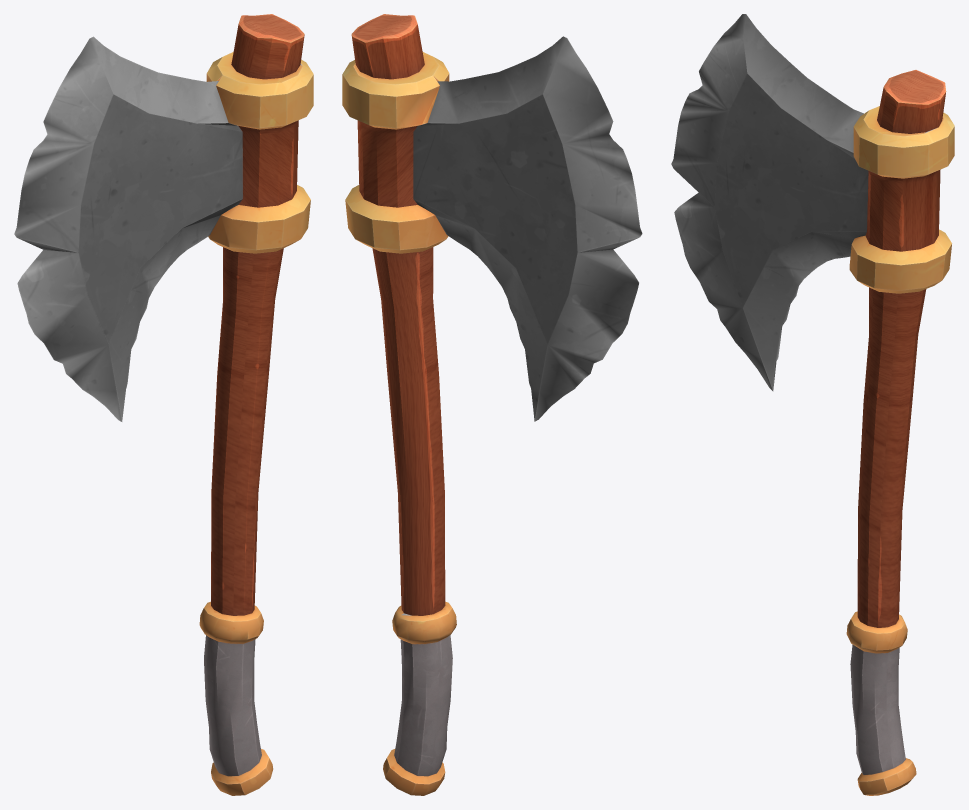
The model's file is Axe.gltf.
3 views of the same model, side by side, from view 1: azimuth 30°, elevation 25°; view 2: azimuth 150°, elevation 25°; view 3: azimuth 330°, elevation 25° (orthographic). The views are drawn at different scales.
Visible parts, largest first — view 1: SM_axe; view 2: SM_axe; view 3: SM_axe.
Boxes of the visible parts, x1,y1,x2,y2 form: SM_axe: (14, 14, 313, 795); SM_axe: (342, 14, 642, 795); SM_axe: (671, 14, 954, 795).
Bounding box in the file's own units: 0.283 × 0.7285 × 0.0917.
Materials: 1 (1 with a texture image).
